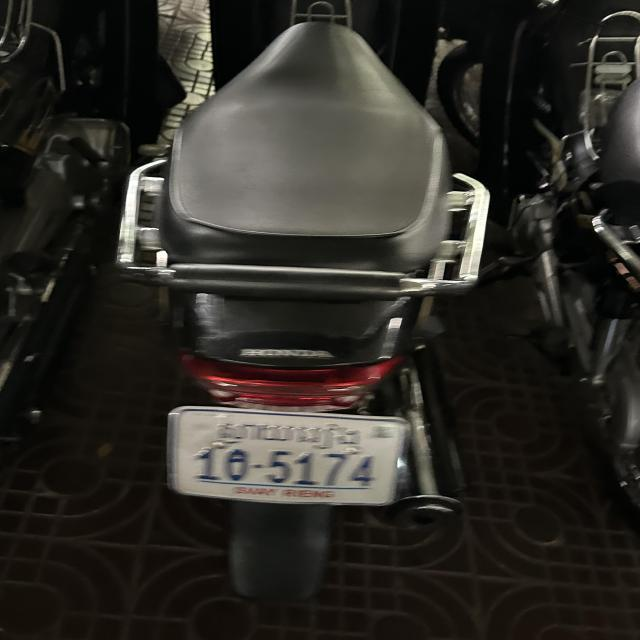Svay_Rieng: (213, 415, 363, 453)
